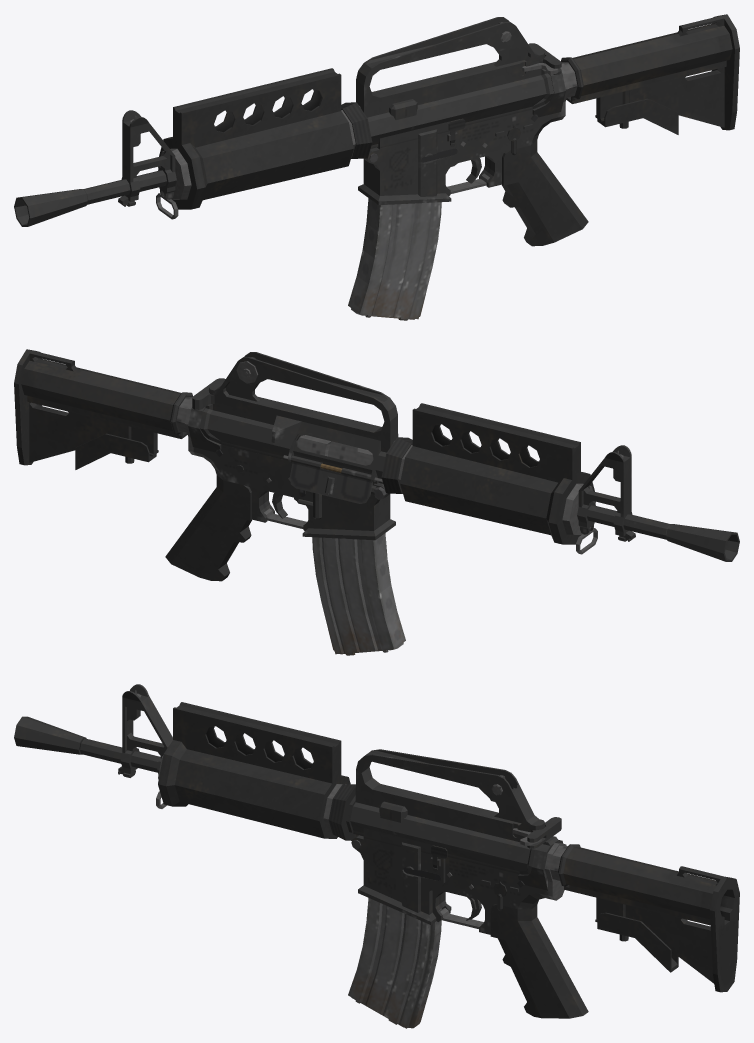
Rendered from arc-a1.obj.
3 views of the same model, one above another, from view 1: azimuth 30°, elevation 25°; view 2: azimuth 150°, elevation 25°; view 3: azimuth 330°, elevation 25° (orthographic).
Parts seen in each view (by area): view 1: ARC_Handguard, ARC_Upper_Reciver, ARC_Stock_Сollapsible, ARC_Lower_Reciver, Stanag_30rnd, ARC_Grip, ARC_Gas_Block, ARC_Moderator, ARC_Stock_Сollapsible_Fixator, ARC_Barrel_14.5", ARC_Charging_Handle; view 2: ARC_Handguard, ARC_Stock_Сollapsible, ARC_Upper_Reciver, Stanag_30rnd, ARC_Lower_Reciver, ARC_Grip, ARC_Gas_Block, ARC_Slide_Hatch_, ARC_Moderator, ARC_Stock_Сollapsible_Fixator, ARC_Barrel_14.5", ARC_Slide (+1 smaller); view 3: ARC_Handguard, ARC_Upper_Reciver, ARC_Stock_Сollapsible, ARC_Lower_Reciver, Stanag_30rnd, ARC_Grip, ARC_Gas_Block, ARC_Moderator, ARC_Stock_Сollapsible_Fixator, ARC_Barrel_14.5", ARC_Charging_Handle.
Boxes of the visible parts, left/top/right/bottom form: ARC_Handguard: left=158, top=68, right=372, bottom=209; ARC_Upper_Reciver: left=356, top=17, right=554, bottom=148; ARC_Stock_Сollapsible: left=561, top=14, right=739, bottom=130; ARC_Lower_Reciver: left=358, top=67, right=568, bottom=205; Stanag_30rnd: left=348, top=198, right=441, bottom=320; ARC_Grip: left=502, top=140, right=588, bottom=246; ARC_Gas_Block: left=118, top=110, right=178, bottom=219; ARC_Moderator: left=14, top=189, right=87, bottom=226; ARC_Stock_Сollapsible_Fixator: left=597, top=98, right=678, bottom=134; ARC_Barrel_14.5": left=83, top=106, right=360, bottom=204; ARC_Charging_Handle: left=522, top=43, right=561, bottom=74; ARC_Handguard: left=381, top=403, right=595, bottom=544; ARC_Stock_Сollapsible: left=14, top=349, right=192, bottom=465; ARC_Upper_Reciver: left=199, top=352, right=398, bottom=483; Stanag_30rnd: left=312, top=533, right=405, bottom=655; ARC_Lower_Reciver: left=185, top=402, right=395, bottom=540; ARC_Grip: left=165, top=475, right=251, bottom=581; ARC_Gas_Block: left=576, top=445, right=635, bottom=554; ARC_Slide_Hatch_: left=283, top=455, right=382, bottom=503; ARC_Moderator: left=666, top=524, right=739, bottom=561; ARC_Stock_Сollapsible_Fixator: left=75, top=433, right=156, bottom=469; ARC_Barrel_14.5": left=393, top=441, right=670, bottom=539; ARC_Slide: left=297, top=435, right=373, bottom=465; ARC_Handguard: left=158, top=702, right=356, bottom=840; ARC_Upper_Reciver: left=350, top=749, right=544, bottom=874; ARC_Stock_Сollapsible: left=558, top=844, right=739, bottom=992; ARC_Lower_Reciver: left=351, top=835, right=566, bottom=934; Stanag_30rnd: left=348, top=898, right=441, bottom=1028; ARC_Grip: left=490, top=904, right=588, bottom=1018; ARC_Gas_Block: left=118, top=684, right=172, bottom=808; ARC_Moderator: left=14, top=716, right=86, bottom=754; ARC_Stock_Сollapsible_Fixator: left=597, top=912, right=678, bottom=972; ARC_Barrel_14.5": left=79, top=739, right=160, bottom=772; ARC_Charging_Handle: left=513, top=817, right=561, bottom=848.
Bounding box in the file's own units: 2.53 × 0.9426 × 0.2452.
